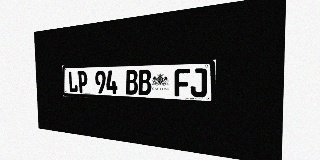4: (106, 70, 117, 94)
9: (95, 70, 106, 94)
B: (138, 69, 151, 95), (125, 70, 138, 95)
F: (174, 69, 190, 97)
J: (190, 68, 207, 97)
L: (68, 71, 78, 93)
P: (78, 71, 88, 93)
